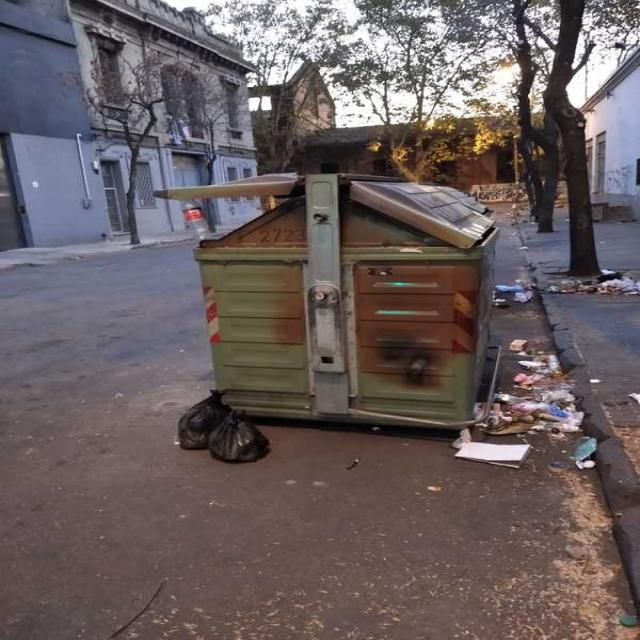garbage: (446, 334, 603, 468), (172, 384, 275, 470), (170, 192, 222, 248), (484, 270, 546, 311), (585, 262, 640, 305)
